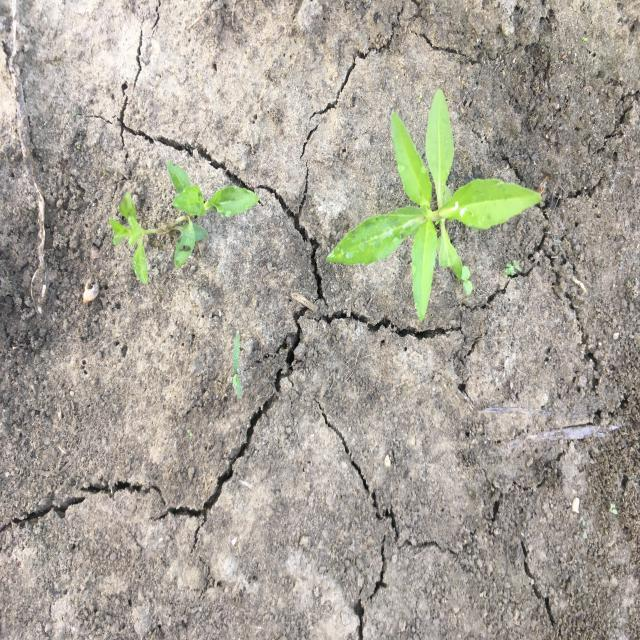Eclipta: (324, 86, 544, 323), (107, 160, 260, 286)
